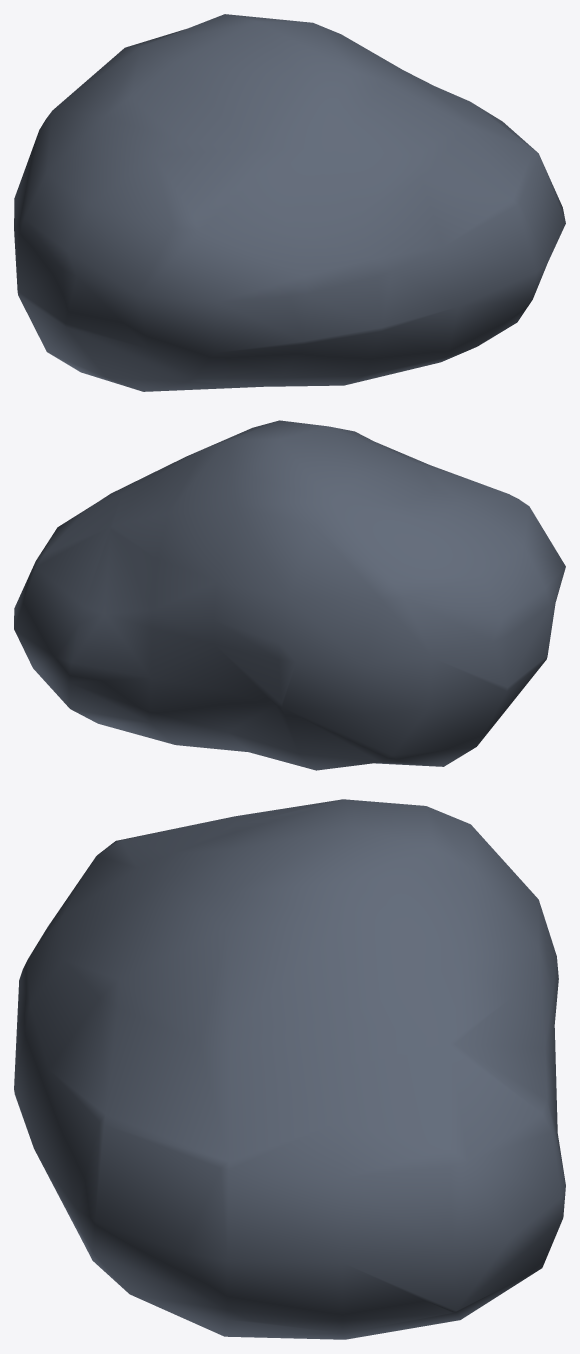
Rendered from RocaChica.fbx.
The picture shows the model from 3 angles, top to bottom: view 1: azimuth 30°, elevation 25°; view 2: azimuth 150°, elevation 25°; view 3: azimuth 270°, elevation 25°; orthographic projection. The views are drawn at different scales.
Visible parts, largest first — view 1: RocaChica_Piedra; view 2: RocaChica_Piedra; view 3: RocaChica_Piedra.
Boxes of the visible parts, x1,y1,x2,y2 form: RocaChica_Piedra: [14, 14, 565, 391]; RocaChica_Piedra: [14, 420, 565, 770]; RocaChica_Piedra: [14, 799, 565, 1339].
Size of the model in its own units: 1.68 by 1.05 by 1.24.
